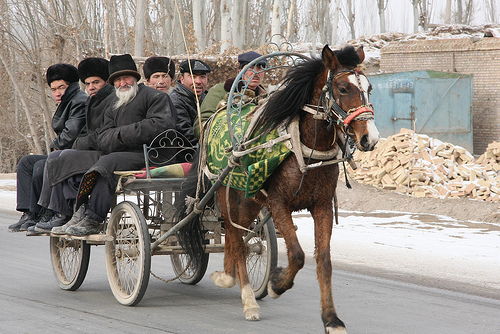horse: (204, 41, 381, 334)
